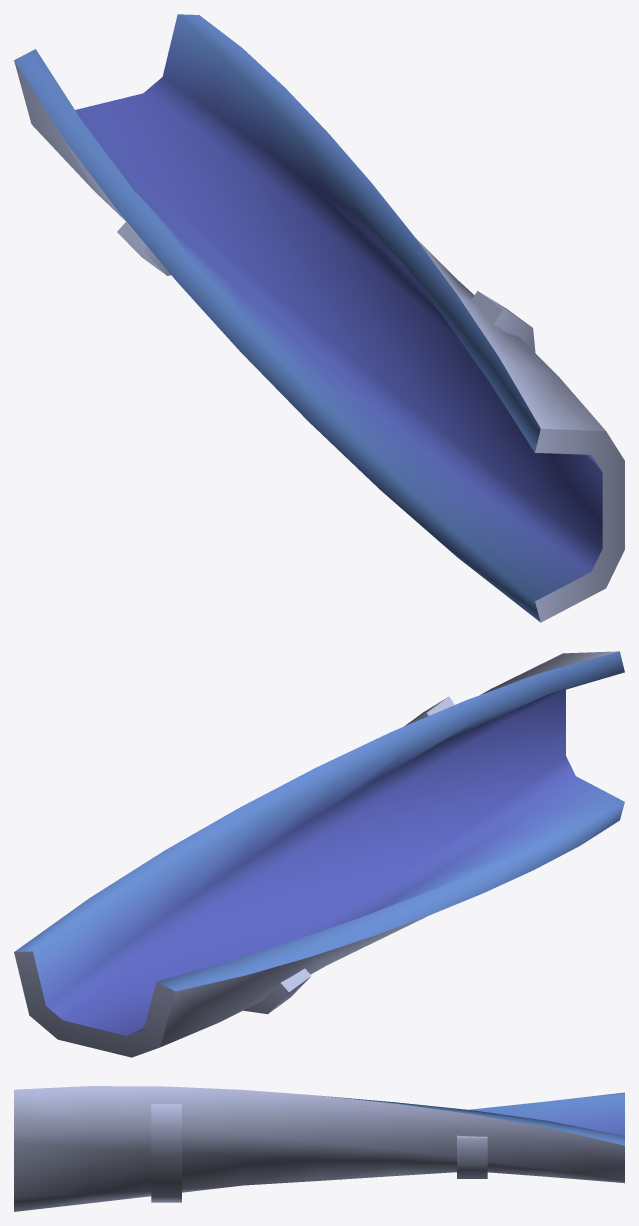
File: kenney-coaster-coaster-flume-straight-skew-right-side.glb
3 renders of one model, top to bottom at view 1: azimuth 30°, elevation 25°; view 2: azimuth 150°, elevation 25°; view 3: azimuth 270°, elevation 25°, orthographic. The views are drawn at different scales.
Parts seen in each view (by area): view 1: coaster-flume-straight-skew-right-side; view 2: coaster-flume-straight-skew-right-side; view 3: coaster-flume-straight-skew-right-side.
Part boxes in pixels (<box>): coaster-flume-straight-skew-right-side: <box>14,14,624,622</box>; coaster-flume-straight-skew-right-side: <box>14,651,624,1057</box>; coaster-flume-straight-skew-right-side: <box>14,1086,624,1211</box>.
Bounding box in the file's own units: 0.9702 × 0.9702 × 4.
1 material, 1 textured.
